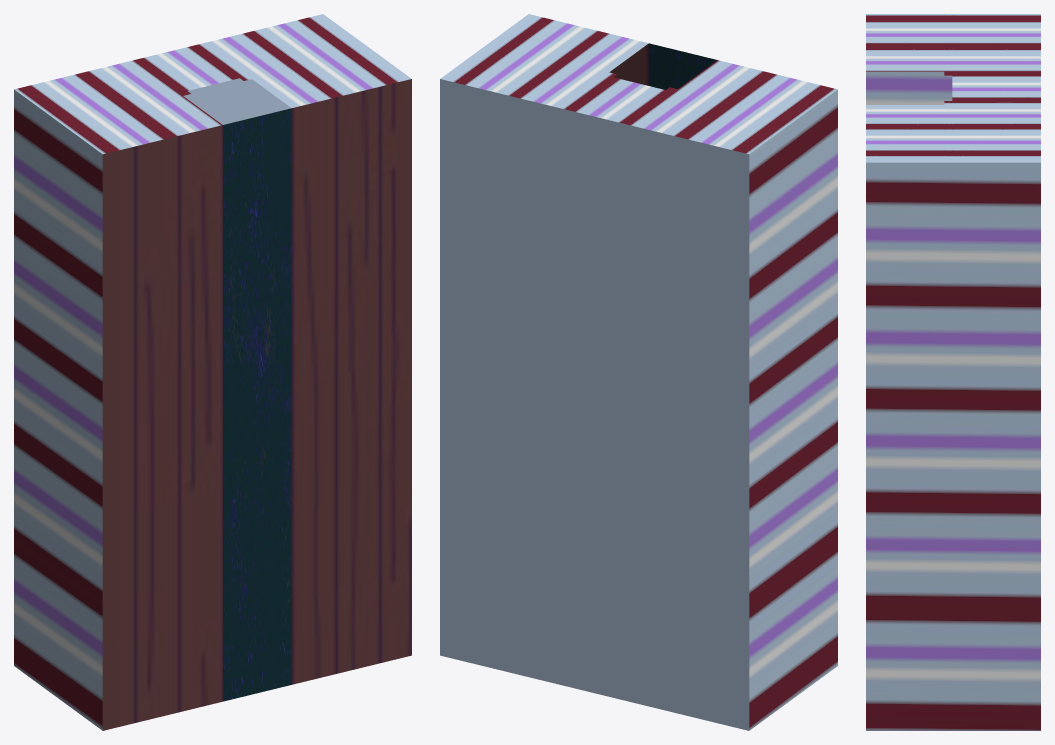
File: Hall_SalaGrande_Pasillo.fbx
3 renders of one model, left to right at view 1: azimuth 30°, elevation 25°; view 2: azimuth 150°, elevation 25°; view 3: azimuth 270°, elevation 25°, orthographic.
Parts seen in each view (by area): view 1: Hall_SalaGrande_Pasillo; view 2: Hall_SalaGrande_Pasillo; view 3: Hall_SalaGrande_Pasillo.
Boxes of the visible parts, left/top/right/bottom form: Hall_SalaGrande_Pasillo: left=14, top=14, right=411, bottom=730; Hall_SalaGrande_Pasillo: left=440, top=14, right=837, bottom=730; Hall_SalaGrande_Pasillo: left=866, top=14, right=1040, bottom=730.
Size of the model in its own units: 898 by 1600 by 446.
Materials: 2 (2 with a texture image).
